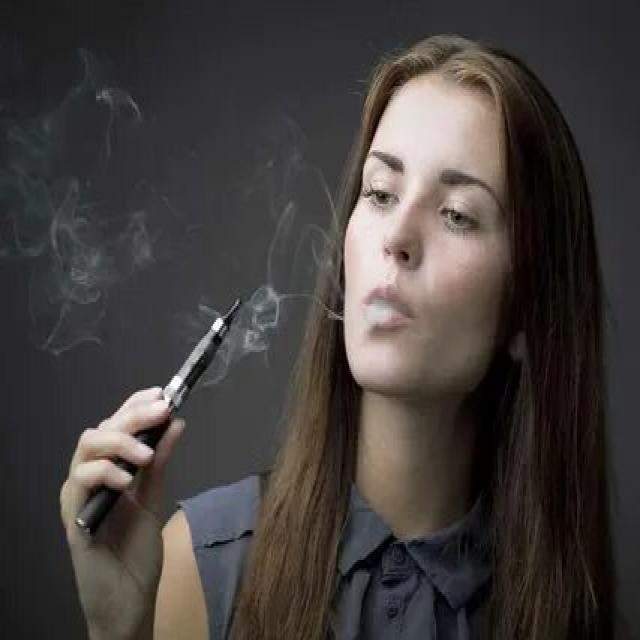cigarette: (77, 290, 250, 556)
